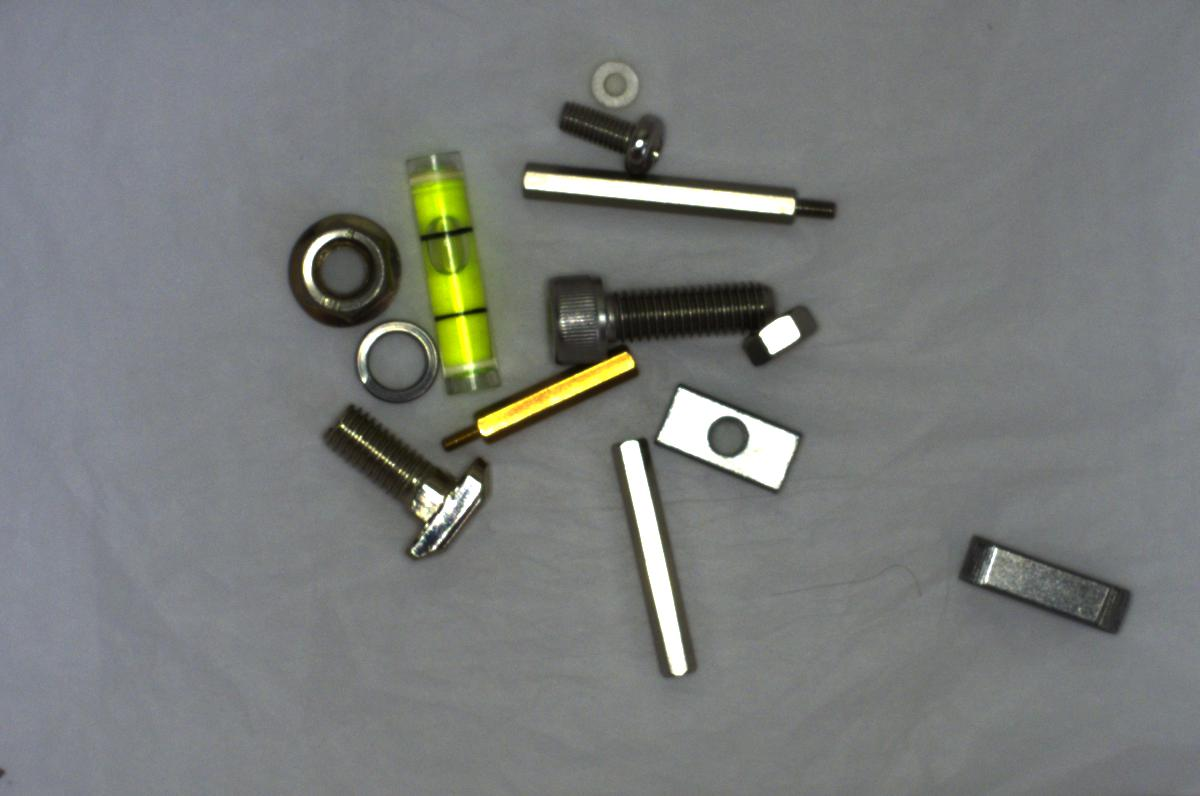Double hexagonal column: (608, 423, 706, 687)
Flange nut: (271, 201, 408, 326)
Hexagon nut: (741, 303, 824, 365)
Hexagon pillar: (437, 346, 648, 458)
Hexagon screw: (533, 258, 789, 372)
Hexagonal steel column: (510, 154, 848, 244)
Horizontal bubble: (403, 137, 517, 399)
Keybar: (955, 521, 1133, 645)
Plastic cushion pillar: (580, 48, 647, 114)
Rectangular nut: (650, 376, 806, 495)
Round head screw: (553, 91, 679, 172)
Spring washer: (346, 313, 439, 413)
T-shaped screw: (308, 401, 494, 569)
